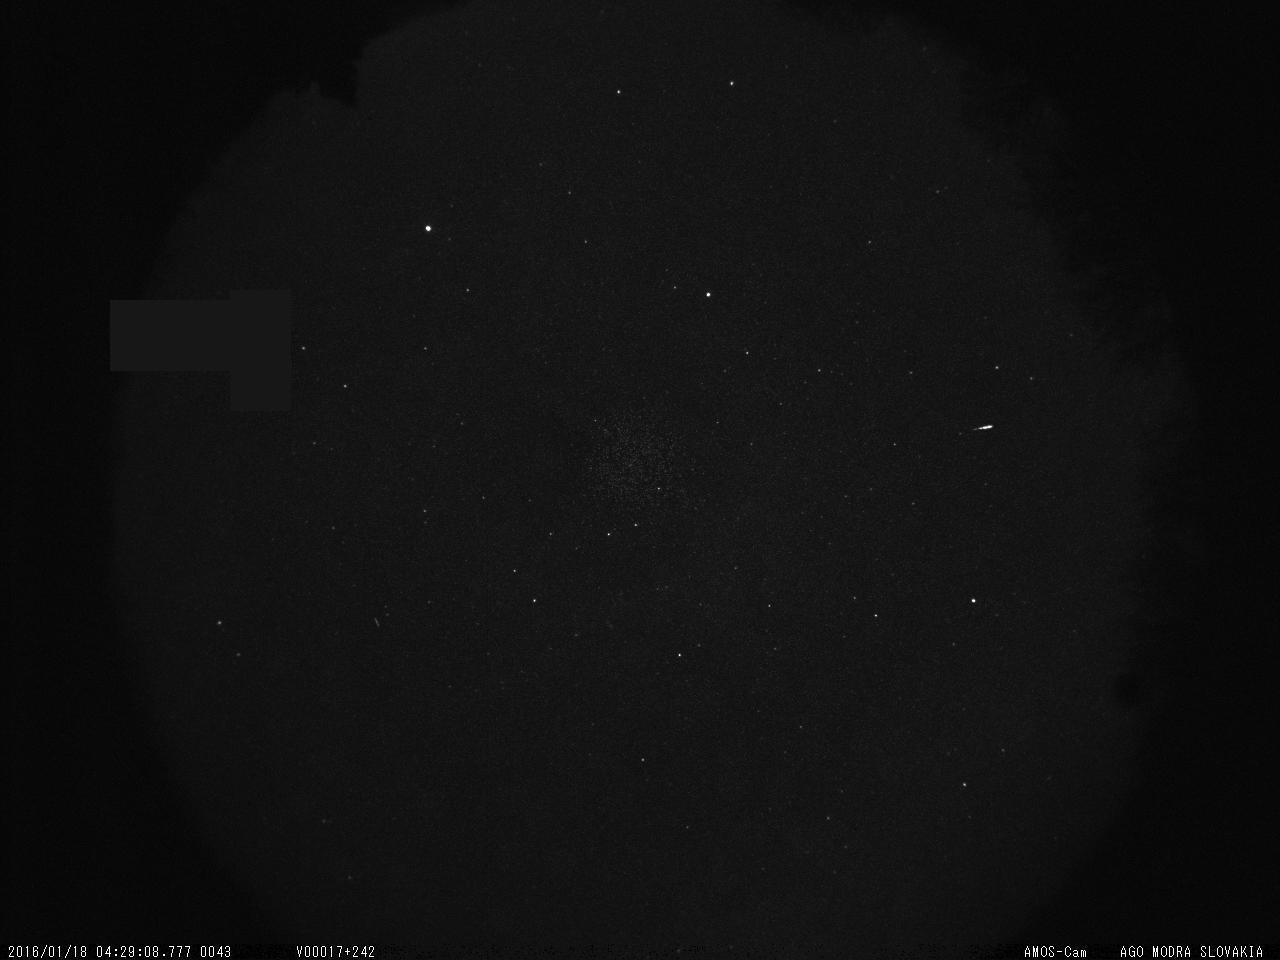meteor: (966, 420, 1005, 438)
